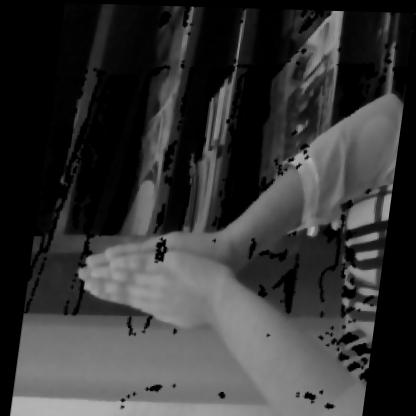namaste: (64, 201, 307, 350)
